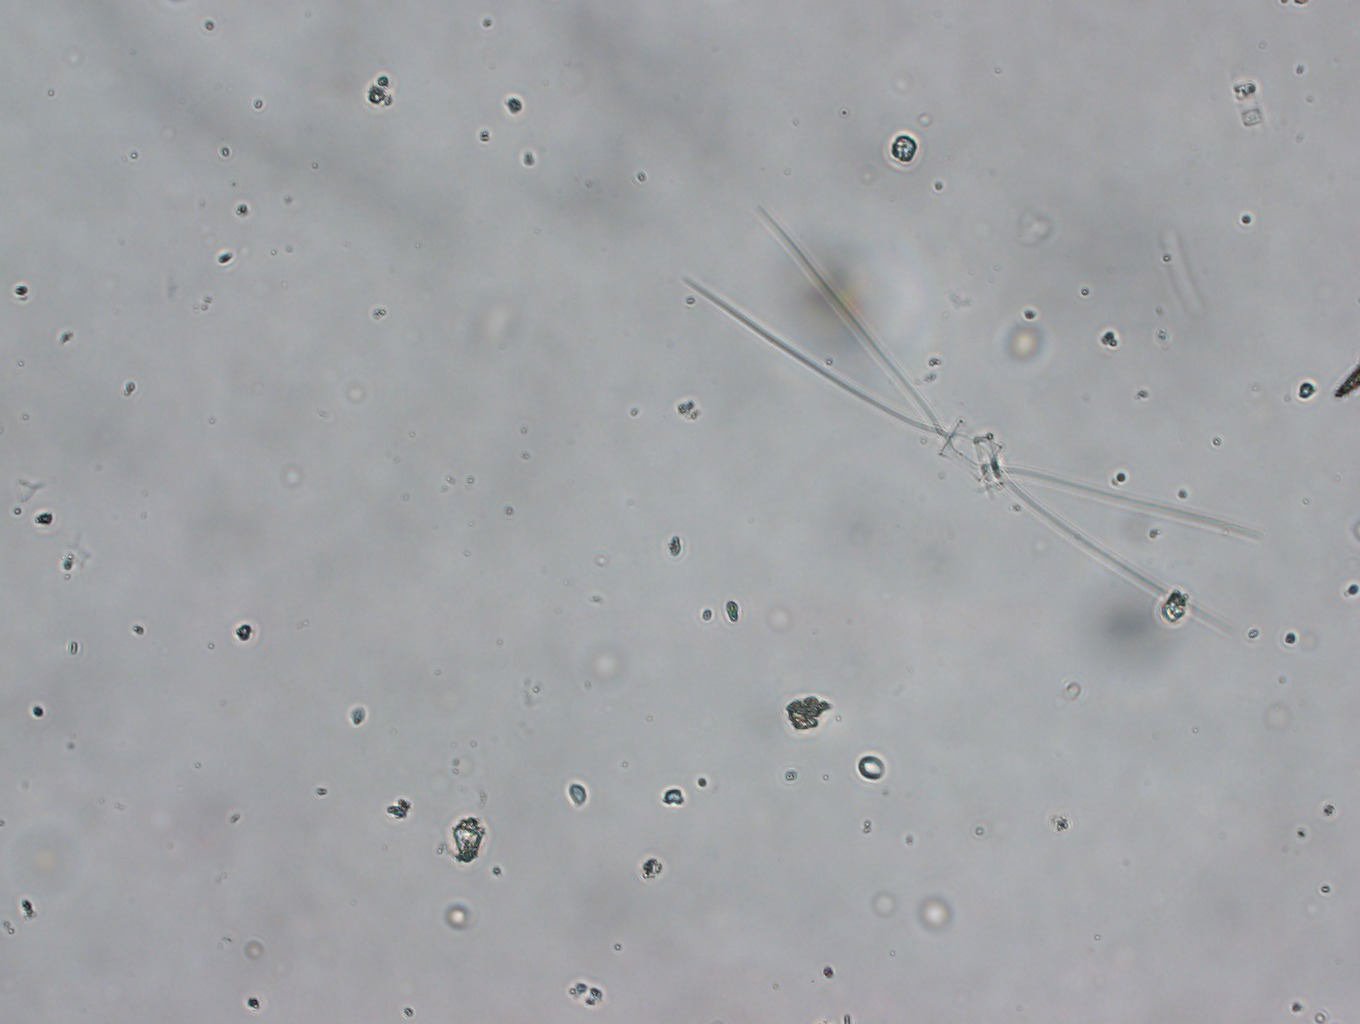chaetoceros: (669, 194, 1279, 655)
